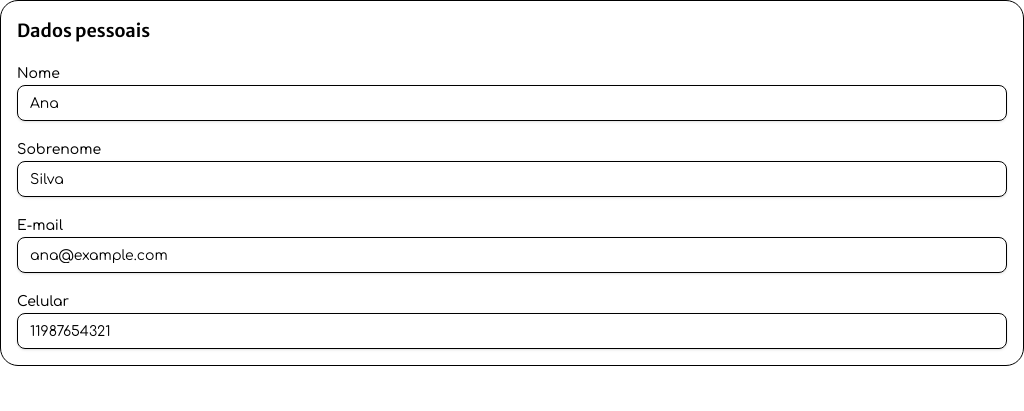
ProfilePersonalForm › shows invalid phone message when submit fails validation
Replace the text in the field labelled "Celular" with "1134567890" at (512, 331), box top-left (17, 313), bottom-right (1007, 349)
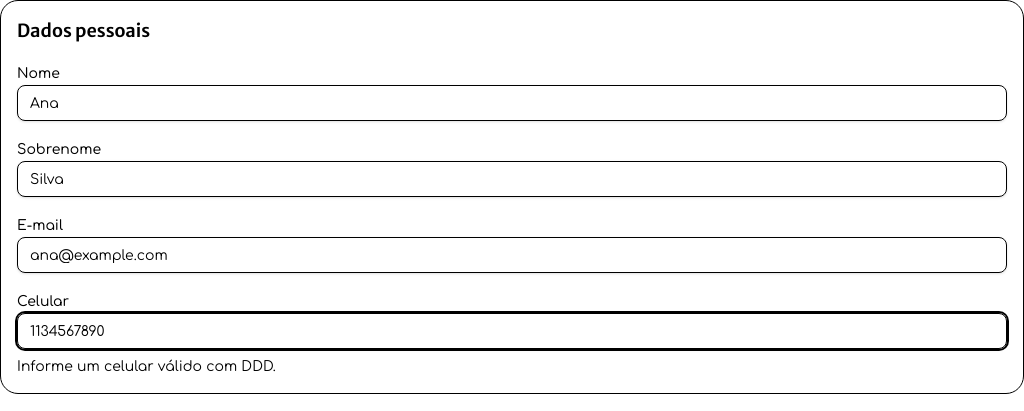
Check: the message reads "Informe um celular válido com DDD.", box top-left (17, 359), bottom-right (276, 374)
